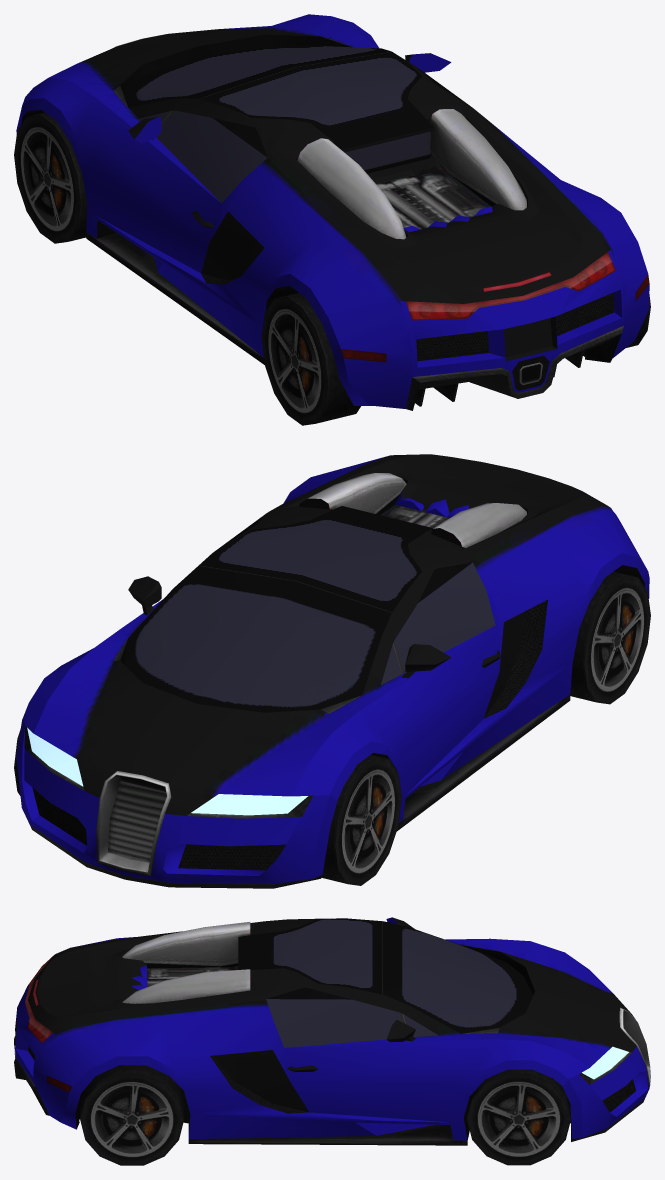
File: car_61.glb
The picture shows the model from 3 angles, top to bottom: view 1: azimuth 30°, elevation 25°; view 2: azimuth 150°, elevation 25°; view 3: azimuth 270°, elevation 25°; orthographic projection. The views are drawn at different scales.
Visible parts, largest first — view 1: car_61; view 2: car_61; view 3: car_61.
Boxes of the visible parts, left/top/right/bottom form: car_61: left=14, top=14, right=650, bottom=425; car_61: left=14, top=454, right=650, bottom=888; car_61: left=14, top=917, right=650, bottom=1165.
Size of the model in its own units: 20.49 by 12.24 by 44.98.
Materials: 11 (11 with a texture image).
